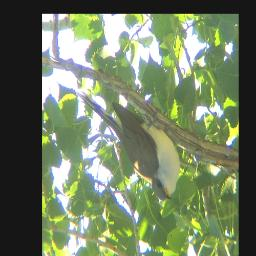Cuckoo: (74, 91, 181, 201)
